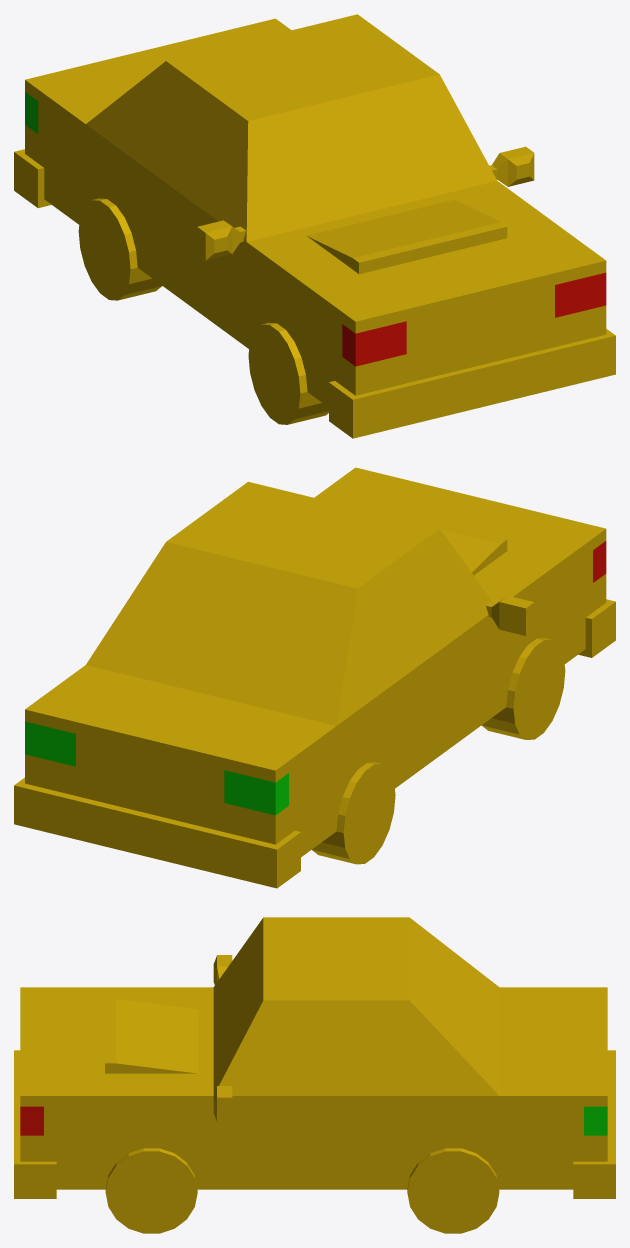
The model's file is car.fbx.
The picture shows the model from 3 angles, top to bottom: view 1: azimuth 30°, elevation 25°; view 2: azimuth 150°, elevation 25°; view 3: azimuth 270°, elevation 25°; orthographic projection. The views are drawn at different scales.
Parts seen in each view (by area): view 1: Cube, WheelBR, WheelFR; view 2: Cube, WheelBR, WheelFR; view 3: Cube, WheelFL, WheelBL.
Boxes of the visible parts, bbox=[...] form: Cube: bbox=[14, 14, 615, 438]; WheelBR: bbox=[78, 198, 161, 300]; WheelFR: bbox=[248, 322, 328, 424]; Cube: bbox=[14, 467, 615, 888]; WheelBR: bbox=[312, 762, 395, 864]; WheelFR: bbox=[481, 638, 565, 739]; Cube: bbox=[14, 917, 615, 1198]; WheelFL: bbox=[105, 1148, 197, 1233]; WheelBL: bbox=[407, 1148, 499, 1233].
Bounding box in the file's own units: 385449 × 274416 × 688338.
